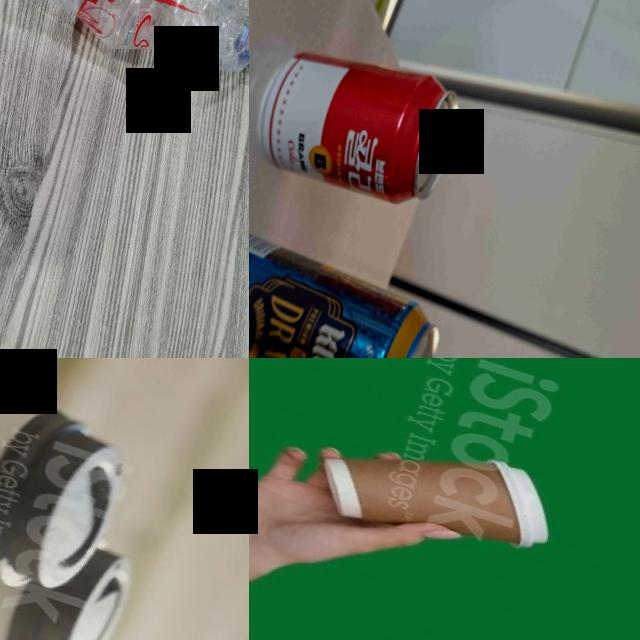bottle: (0, 0, 249, 121)
can: (249, 30, 470, 221), (249, 220, 457, 358)
cup: (306, 407, 570, 584), (0, 358, 139, 611), (0, 460, 141, 640)
